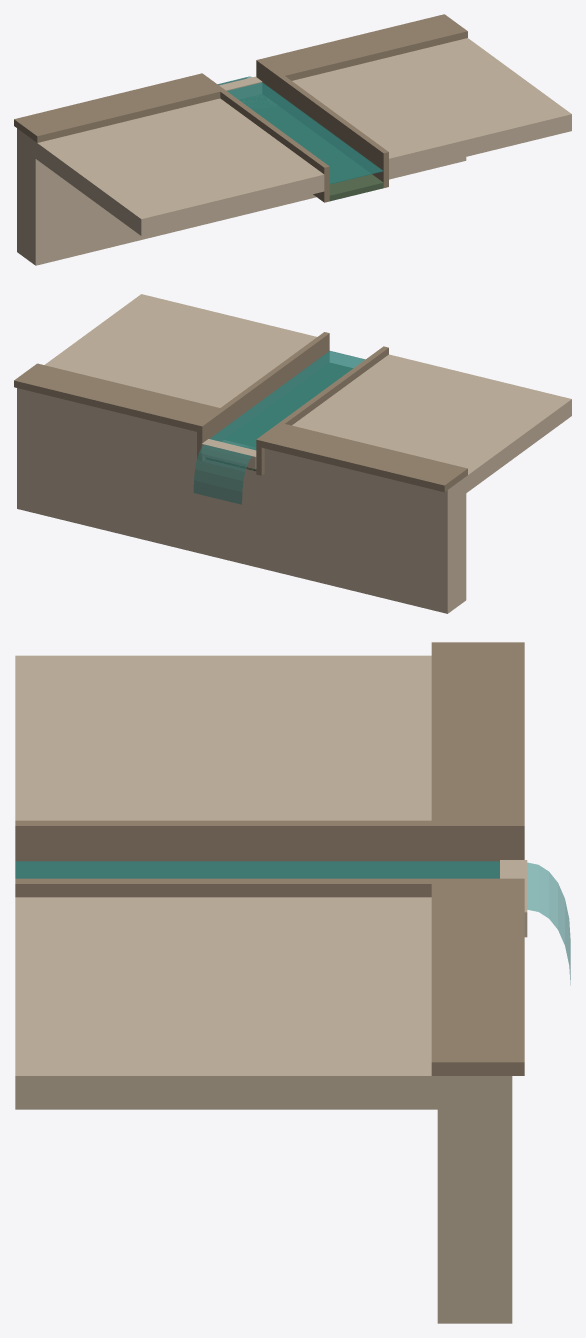
The model's file is city_canal_end.glb.
3 views of the same model, one above another, from view 1: azimuth 30°, elevation 25°; view 2: azimuth 150°, elevation 25°; view 3: azimuth 270°, elevation 25° (orthographic). The views are drawn at different scales.
Parts seen in each view (by area): view 1: CityCanalEnd_PavingL, CityCanalEnd_PavingR, CityCanalEnd_WallL, CityCanalEnd_CopingL, CityCanalEnd_CopingR, CityCanalEnd_ChannelWater, CityCanalEnd_ChannelR, CityCanalEnd_ChannelBed, CityCanalEnd_ChannelL, CityCanalEnd_Weir, CityCanalEnd_WallR; view 2: CityCanalEnd_WallL, CityCanalEnd_WallR, CityCanalEnd_PavingL, CityCanalEnd_PavingR, CityCanalEnd_CopingL, CityCanalEnd_CopingR, CityCanalEnd_WallUnder, CityCanalEnd_ChannelR, CityCanalEnd_ChannelWater, CityCanalEnd_ChannelBed, CityCanalEnd_Spill, CityCanalEnd_ChannelL (+1 smaller); view 3: CityCanalEnd_PavingR, CityCanalEnd_PavingL, CityCanalEnd_ChannelL, CityCanalEnd_WallR, CityCanalEnd_CopingR, CityCanalEnd_CopingL, CityCanalEnd_ChannelR, CityCanalEnd_ChannelWater, CityCanalEnd_Spill.
Part boxes in pixels (x1,y1,x2,y2): CityCanalEnd_PavingL: (35,98,324,235); CityCanalEnd_PavingR: (292,38,571,175); CityCanalEnd_WallL: (17,128,223,265); CityCanalEnd_CopingL: (14,74,220,142); CityCanalEnd_CopingR: (262,14,467,80); CityCanalEnd_ChannelWater: (227,82,383,184); CityCanalEnd_ChannelR: (256,59,388,187); CityCanalEnd_ChannelBed: (240,94,383,201); CityCanalEnd_ChannelL: (197,73,329,202); CityCanalEnd_Weir: (219,76,262,98); CityCanalEnd_WallR: (278,157,466,206); CityCanalEnd_WallL: (259,448,466,613); CityCanalEnd_WallR: (17,388,205,554); CityCanalEnd_PavingL: (292,354,571,492); CityCanalEnd_PavingR: (44,294,316,407); CityCanalEnd_CopingL: (261,424,467,492); CityCanalEnd_CopingR: (14,363,219,431); CityCanalEnd_WallUnder: (205,440,259,567); CityCanalEnd_ChannelR: (197,332,329,460); CityCanalEnd_ChannelWater: (209,351,365,450); CityCanalEnd_ChannelBed: (205,363,352,470); CityCanalEnd_Spill: (193,444,252,504); CityCanalEnd_ChannelL: (256,346,388,475); CityCanalEnd_PavingR: (15,897,437,1109); CityCanalEnd_PavingL: (15,655,431,820); CityCanalEnd_ChannelL: (15,820,524,877); CityCanalEnd_WallR: (437,1076,512,1323); CityCanalEnd_CopingR: (431,884,524,1075); CityCanalEnd_CopingL: (431,642,524,820); CityCanalEnd_ChannelR: (15,878,524,897); CityCanalEnd_ChannelWater: (15,861,499,878); CityCanalEnd_Spill: (527,862,570,984).
Bounding box in the file's own units: 8 × 2.32 × 4.47.
